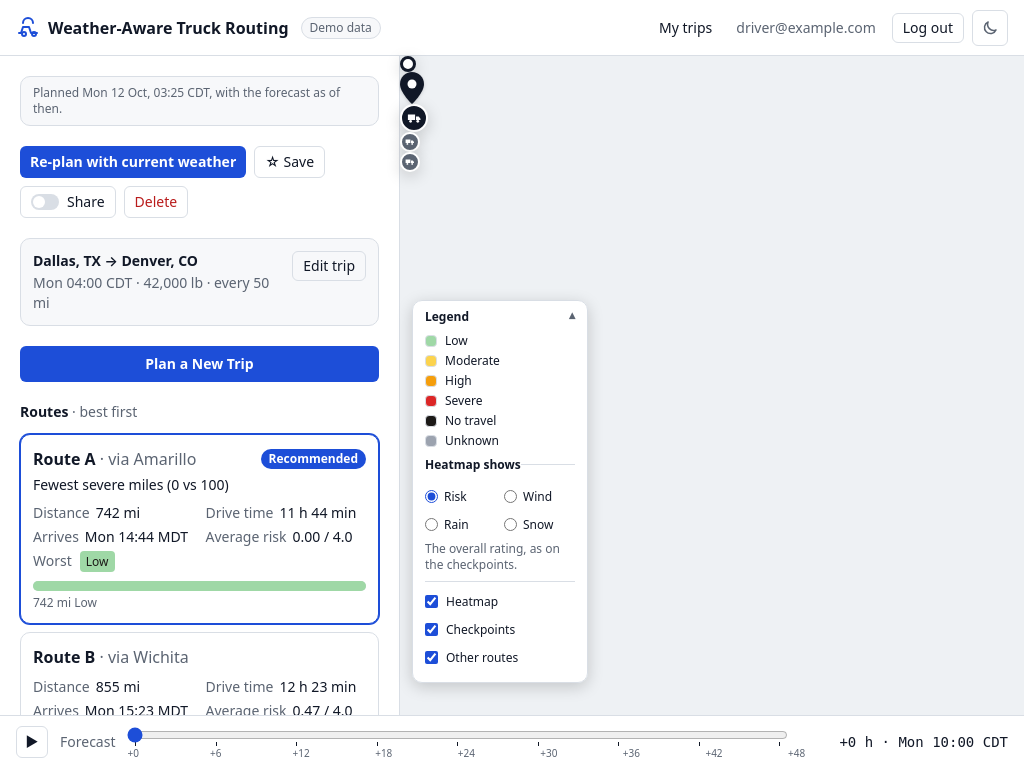
Test: trip actions › says so when re-planning fails
Click the button "Re-plan with current weather". click: [133, 162]
box: [20,146,246,178]
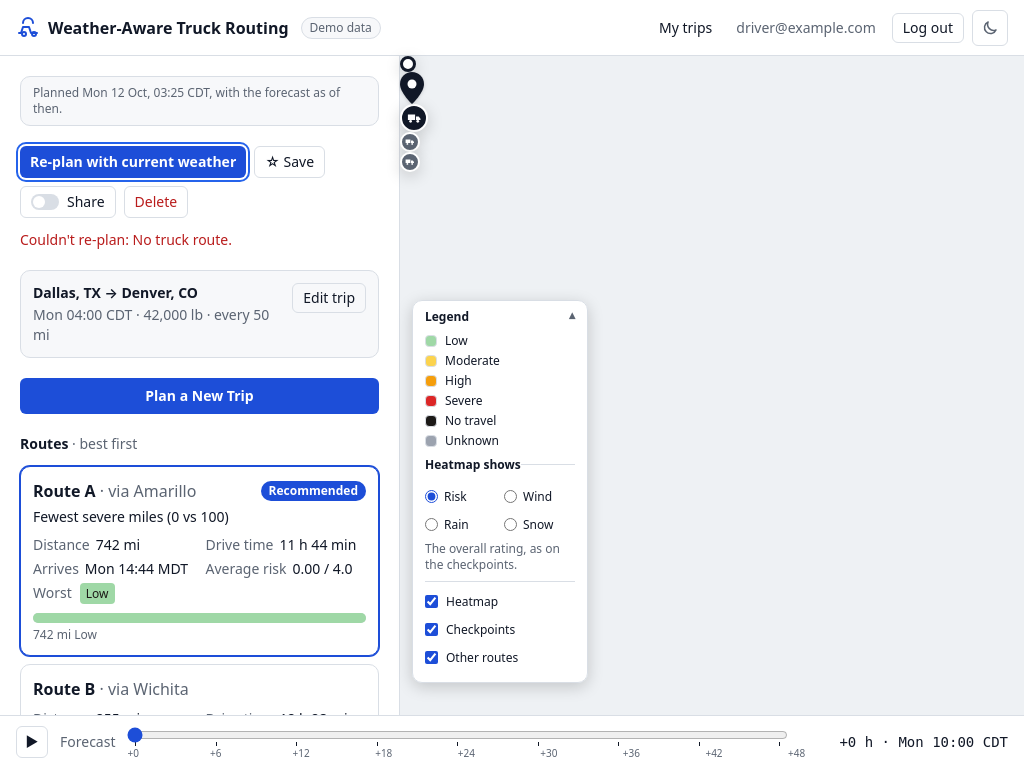
Result: the message shows "Couldn't re-plan" at [20,230,133,249]
